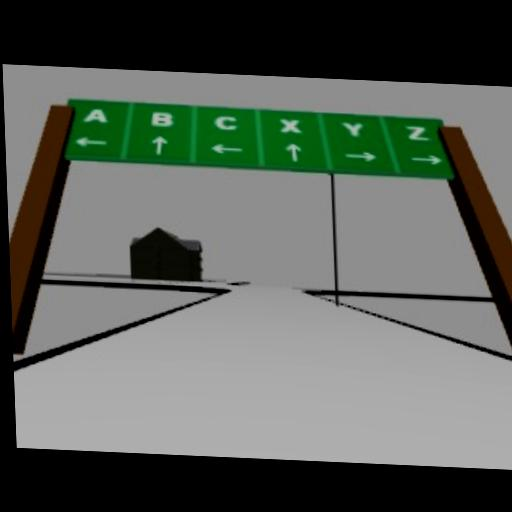A: (82, 107, 108, 125)
B: (149, 110, 173, 128)
C: (213, 113, 237, 130)
Left: (72, 135, 108, 149), (208, 142, 244, 154)
Right: (344, 150, 377, 162), (410, 153, 441, 164)
Straight: (150, 135, 168, 155), (283, 142, 301, 162)
X: (277, 116, 301, 133)
Y: (341, 120, 363, 137)
Z: (405, 123, 429, 140)
